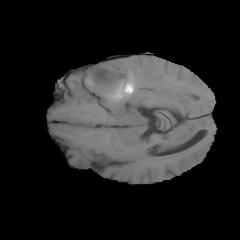glioma: (81, 58, 165, 104)
